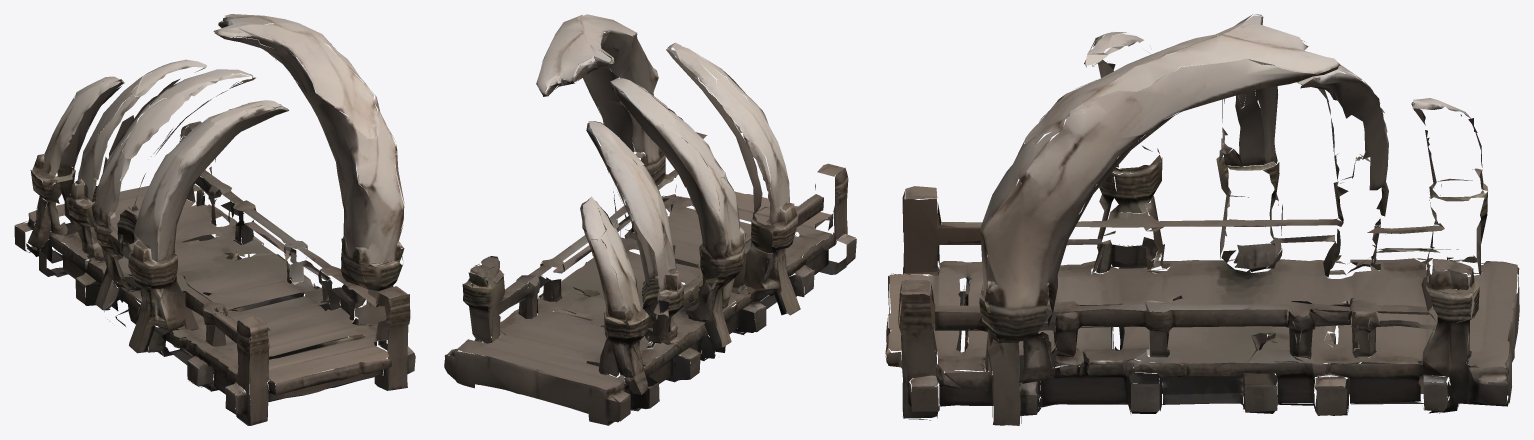
The model's file is ribBridge.glb.
3 renders of one model, left to right at view 1: azimuth 30°, elevation 25°; view 2: azimuth 150°, elevation 25°; view 3: azimuth 270°, elevation 25°, orthographic. The views are drawn at different scales.
Parts seen in each view (by area): view 1: Prop_ribBridge; view 2: Prop_ribBridge; view 3: Prop_ribBridge.
Part boxes in pixels (x1,y1,x2,y2): Prop_ribBridge: (14, 14, 415, 425); Prop_ribBridge: (444, 14, 856, 425); Prop_ribBridge: (885, 14, 1519, 425).
Size of the model in its own units: 2.58 by 3 by 4.58.
1 material, 1 textured.
